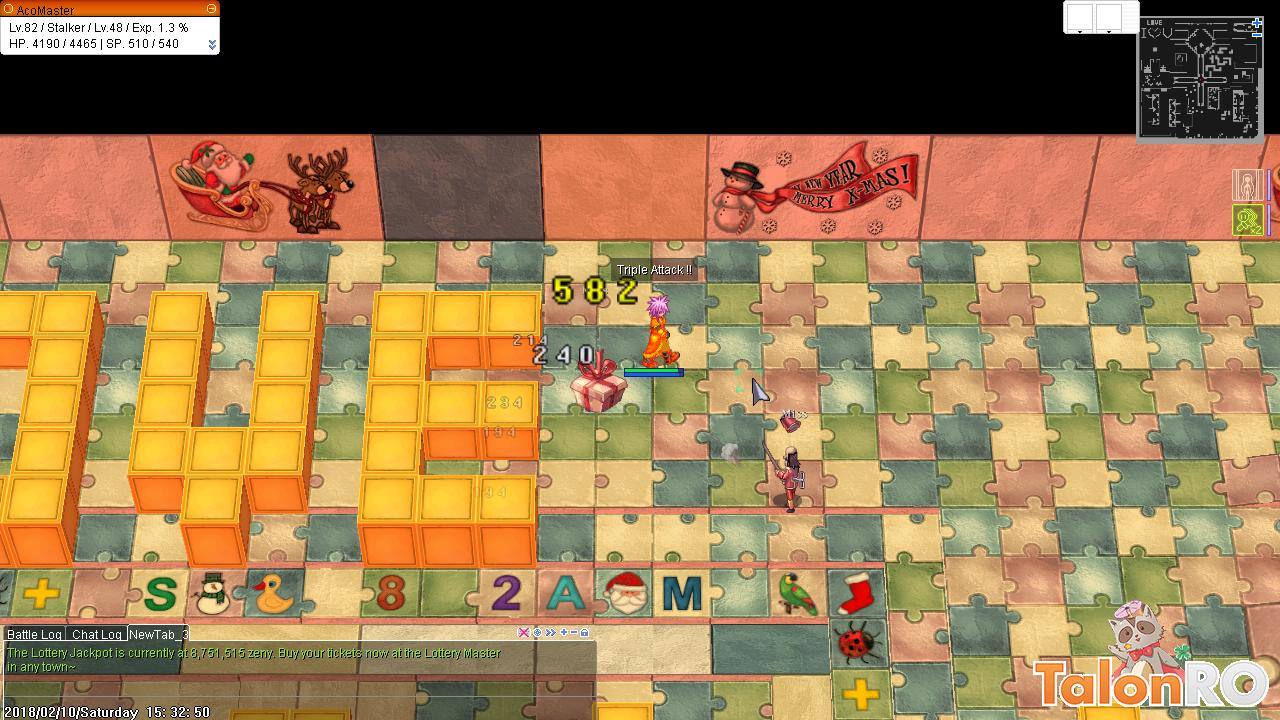mob: (757, 408, 811, 519)
myst_case: (569, 348, 631, 421)
